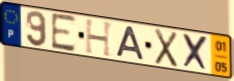9: (25, 9, 48, 49)
A: (115, 25, 146, 62)
E: (50, 12, 77, 54)
H: (84, 18, 115, 59)
X: (181, 32, 210, 73), (153, 27, 179, 69)
